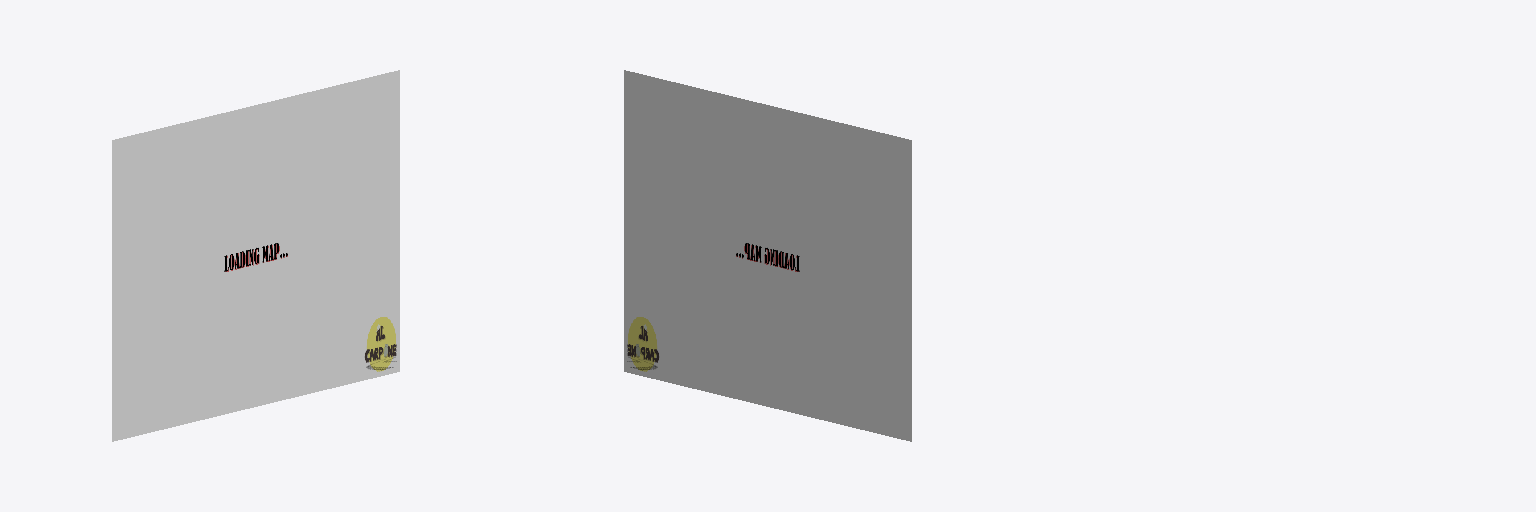
The picture shows the model from 3 angles: view 1: azimuth 30°, elevation 25°; view 2: azimuth 150°, elevation 25°; view 3: azimuth 270°, elevation 25°; orthographic projection.
Parts seen in each view (by area): view 1: Plane; view 2: Plane; view 3: none.
Part boxes in pixels (x1,y1,x2,y2): Plane: (112, 70, 399, 441); Plane: (624, 70, 911, 441).
Size of the model in its own units: 2 by 2 by 0.
1 materials, 1 textured.